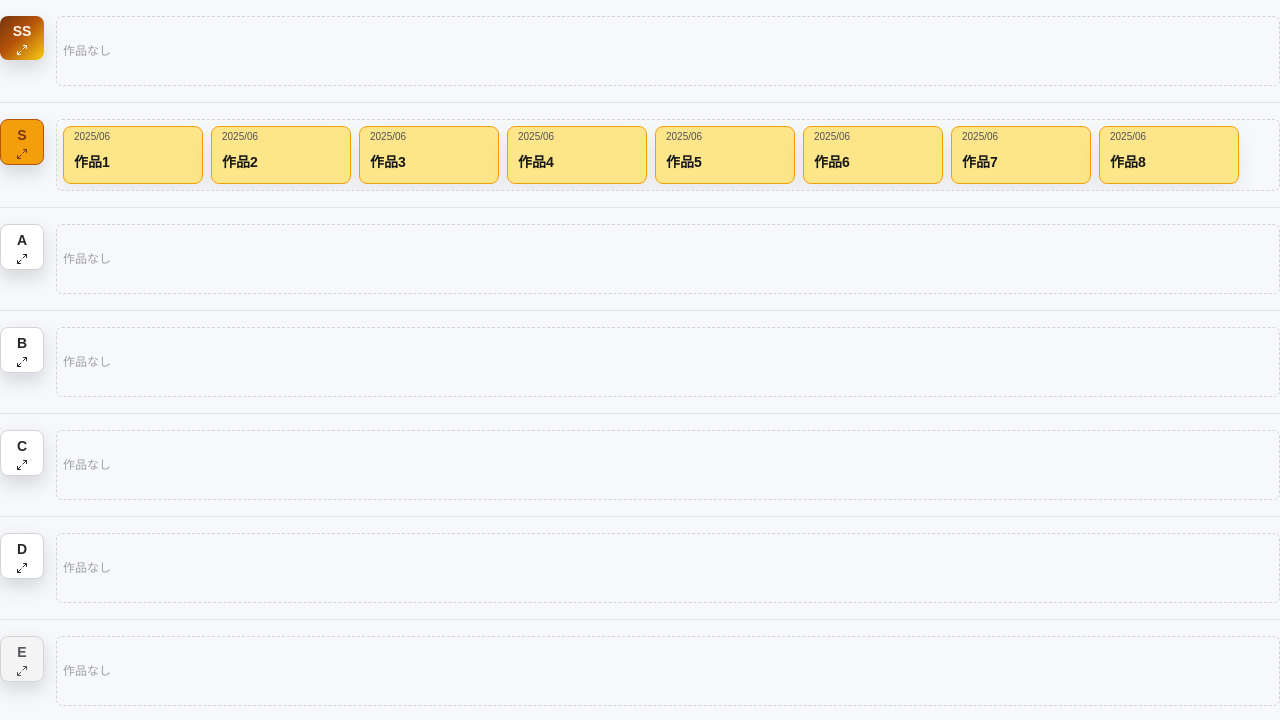
Test: expands only the chosen tier and closes without changing records
The width and height of the screenshot is (1280, 720).
Click the button named "Sティアを拡大". click: [22, 142]
box: x1=1 y1=120 x2=43 y2=164
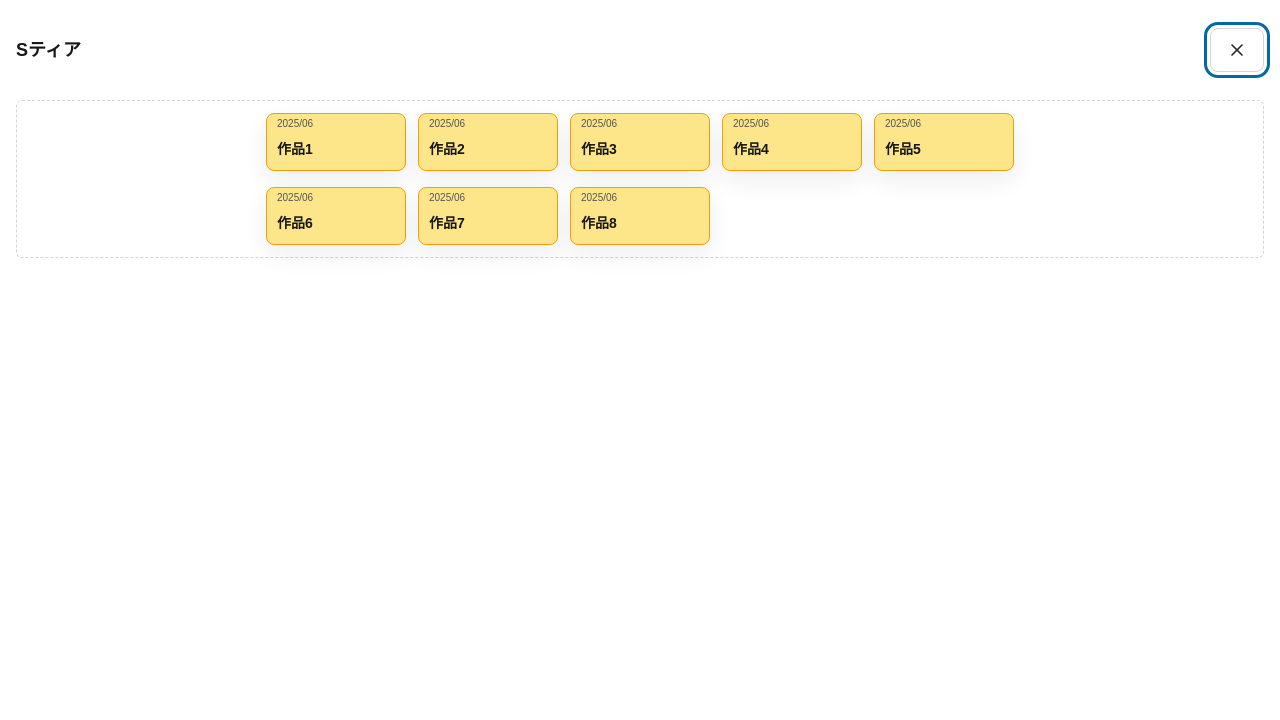
Check: the number of elements with class "tier-grid-cell" is 8
Click the button named "拡大表示を閉じる". click: [1237, 50]
box: x1=1210 y1=28 x2=1264 y2=72
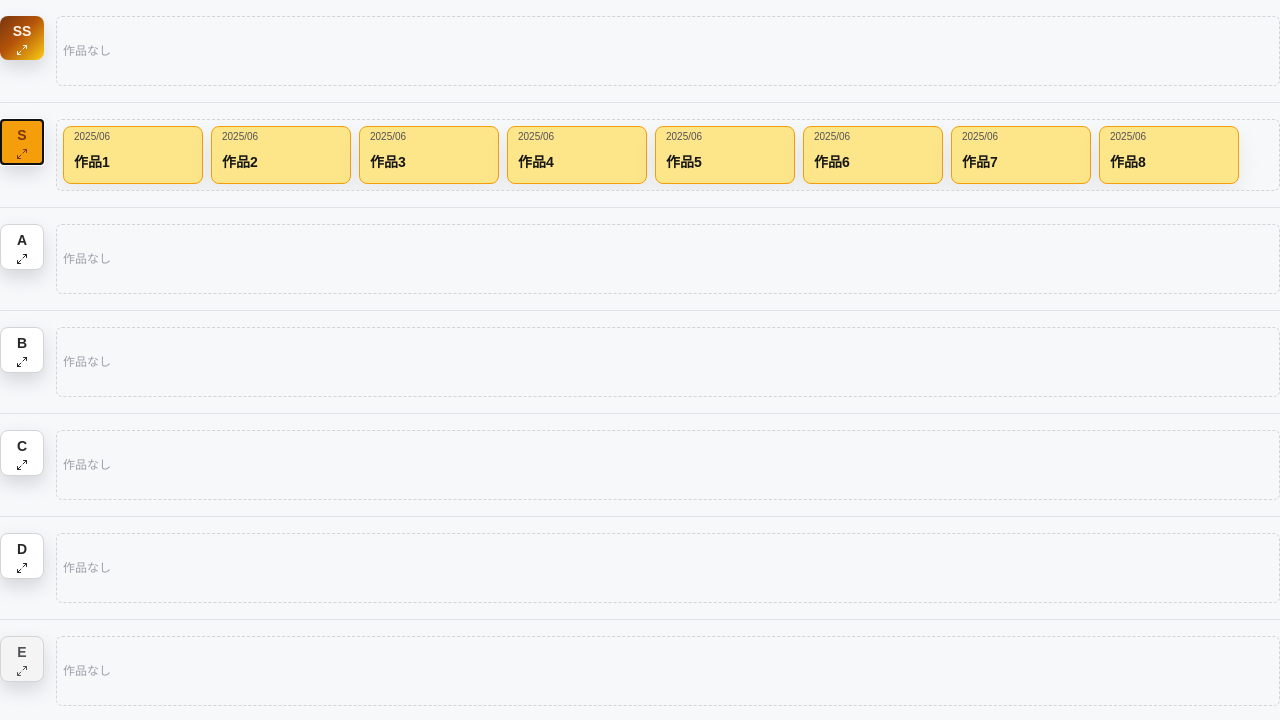
Check: the dialog is gone
